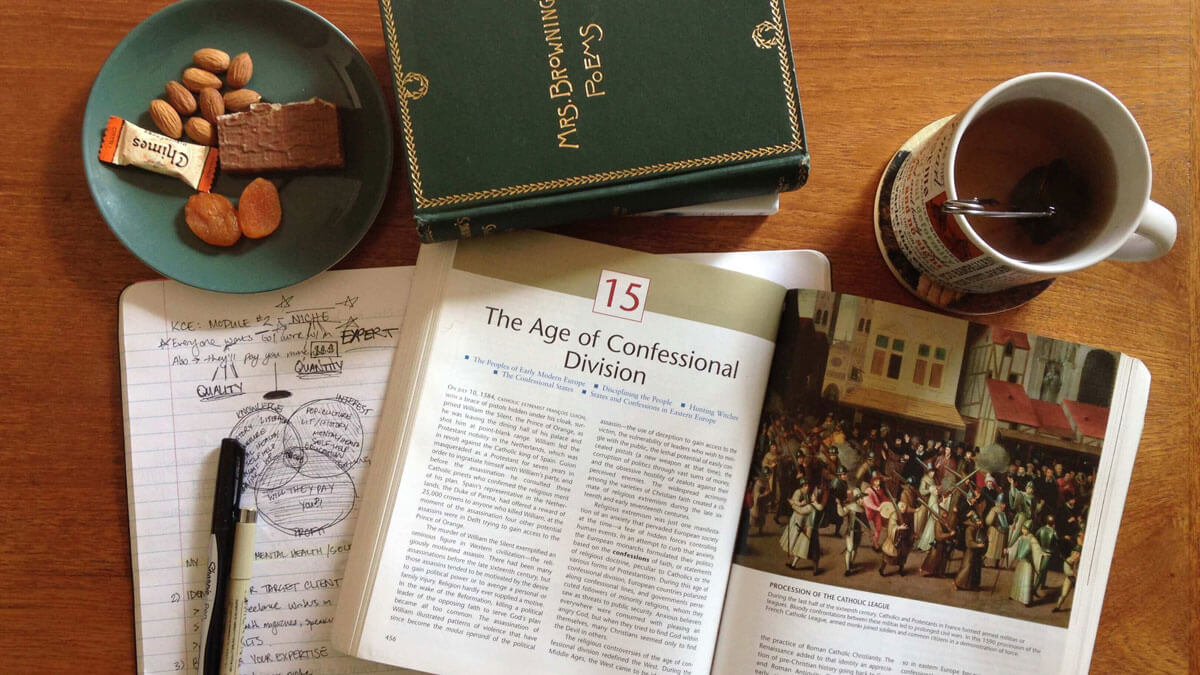Open Book: (333, 235, 1163, 675), (103, 272, 842, 675)
